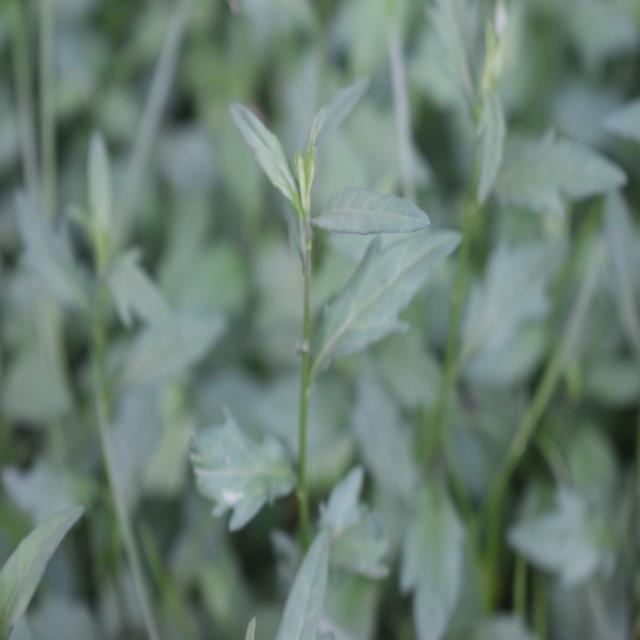Indian aster: (172, 103, 462, 597)
